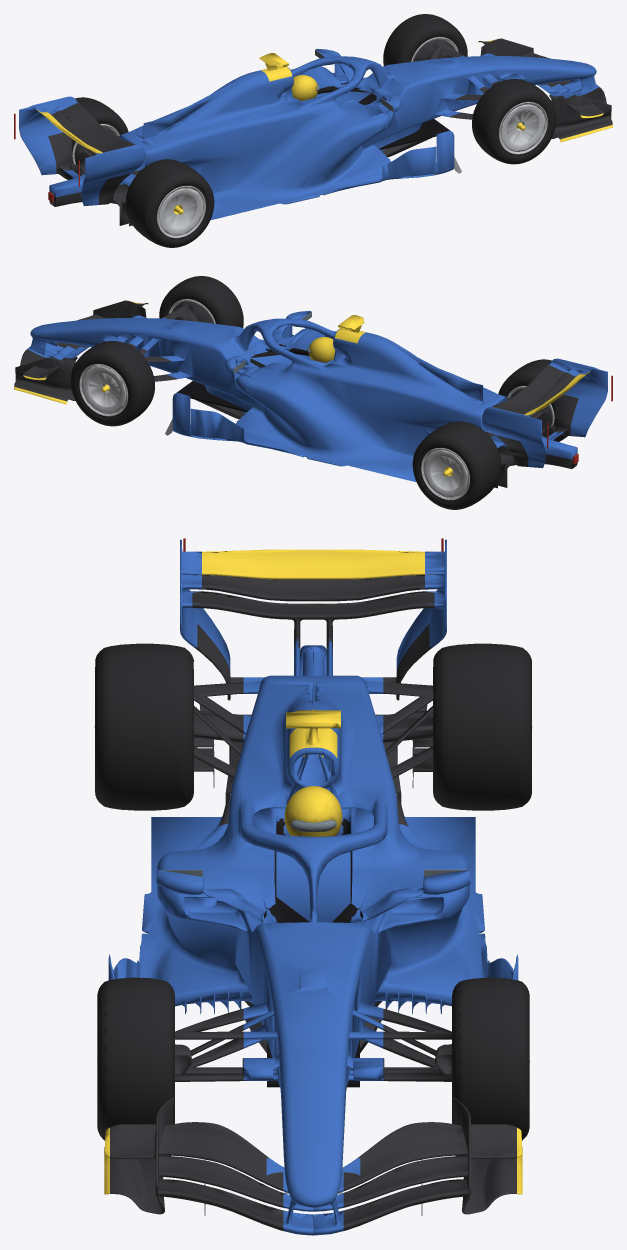
The model's file is car.glb.
The picture shows the model from 3 angles, top to bottom: view 1: azimuth 30°, elevation 25°; view 2: azimuth 150°, elevation 25°; view 3: azimuth 270°, elevation 25°; orthographic projection. The views are drawn at different scales.
Visible parts, largest first — view 1: body, tyre_rr, tyre_fr, tyre_fl, fw_main_r, rw_flap, fw_flap_r, tyre_rl, fw_flap_l, cockpit_floor, helmet, rw_flap2; view 2: body, tyre_rl, tyre_fl, tyre_fr, fw_main_l, rw_flap, fw_flap_l, tyre_rr, fw_flap_r, cockpit_floor, helmet, rw_flap2; view 3: body, tyre_rl, tyre_rr, tyre_fr, tyre_fl, fw_flap_r, fw_flap_l, fw_main_l, rw_flap2, fw_main_r, rw_flap, helmet.
Part boxes in pixels (<box>): body: <box>19,39,602,226</box>; tyre_rr: <box>125,159,214,247</box>; tyre_fr: <box>472,79,556,164</box>; tyre_fl: <box>383,14,467,65</box>; fw_main_r: <box>551,90,612,142</box>; rw_flap: <box>60,103,134,149</box>; fw_flap_r: <box>549,91,611,125</box>; tyre_rl: <box>59,97,128,179</box>; fw_flap_l: <box>480,38,549,58</box>; cockpit_floor: <box>379,119,450,149</box>; helmet: <box>285,75,317,100</box>; rw_flap2: <box>36,109,102,154</box>; body: <box>24,301,607,488</box>; tyre_rl: <box>412,421,501,509</box>; tyre_fl: <box>70,341,154,426</box>; tyre_fr: <box>159,276,243,327</box>; fw_main_l: <box>14,352,75,404</box>; rw_flap: <box>492,365,566,411</box>; fw_flap_l: <box>15,353,77,387</box>; tyre_rr: <box>498,359,567,441</box>; fw_flap_r: <box>77,300,146,320</box>; cockpit_floor: <box>176,381,247,411</box>; helmet: <box>309,337,341,362</box>; rw_flap2: <box>524,371,590,416</box>; body: <box>108,539,518,1235</box>; tyre_rl: <box>433,643,532,810</box>; tyre_rr: <box>94,643,193,810</box>; tyre_fr: <box>97,977,174,1140</box>; tyre_fl: <box>452,977,529,1140</box>; fw_flap_r: <box>118,1097,269,1216</box>; fw_flap_l: <box>357,1097,507,1216</box>; fw_main_l: <box>351,1124,522,1225</box>; rw_flap2: <box>197,549,434,579</box>; fw_main_r: <box>104,1124,277,1224</box>; rw_flap: <box>192,591,434,659</box>; helmet: <box>284,786,342,836</box>.
Size of the model in its own units: 5.45 by 1.45 by 1.88.
